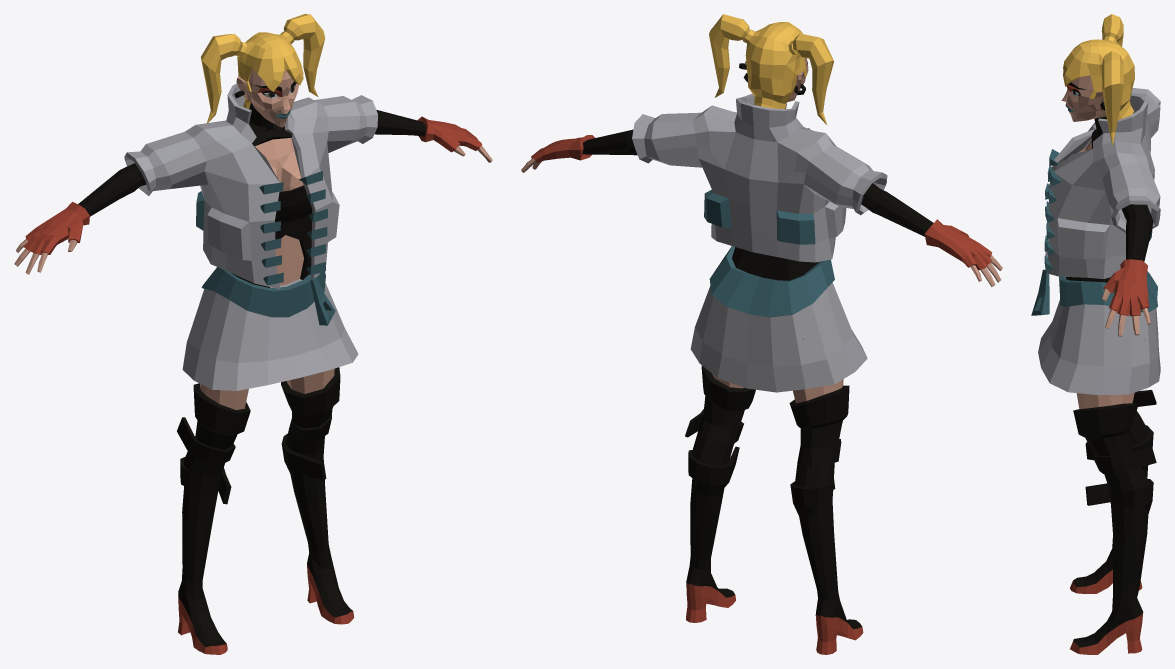
The model's file is Future_F_1.fbx.
3 renders of one model, left to right at view 1: azimuth 30°, elevation 25°; view 2: azimuth 150°, elevation 25°; view 3: azimuth 270°, elevation 25°, orthographic. The views are drawn at different scales.
Parts seen in each view (by area): view 1: Future_F_1, Future_F_1_Jacket; view 2: Future_F_1, Future_F_1_Jacket; view 3: Future_F_1, Future_F_1_Jacket.
Part boxes in pixels (box(x1,y1,x2,y2)): Future_F_1: box(14, 14, 492, 654); Future_F_1_Jacket: box(124, 83, 377, 325); Future_F_1: box(521, 14, 1002, 654); Future_F_1_Jacket: box(632, 93, 887, 262); Future_F_1: box(1038, 14, 1160, 654); Future_F_1_Jacket: box(1031, 88, 1160, 315).
Size of the model in its own units: 149 by 181 by 36.44.
1 material, 1 textured.
